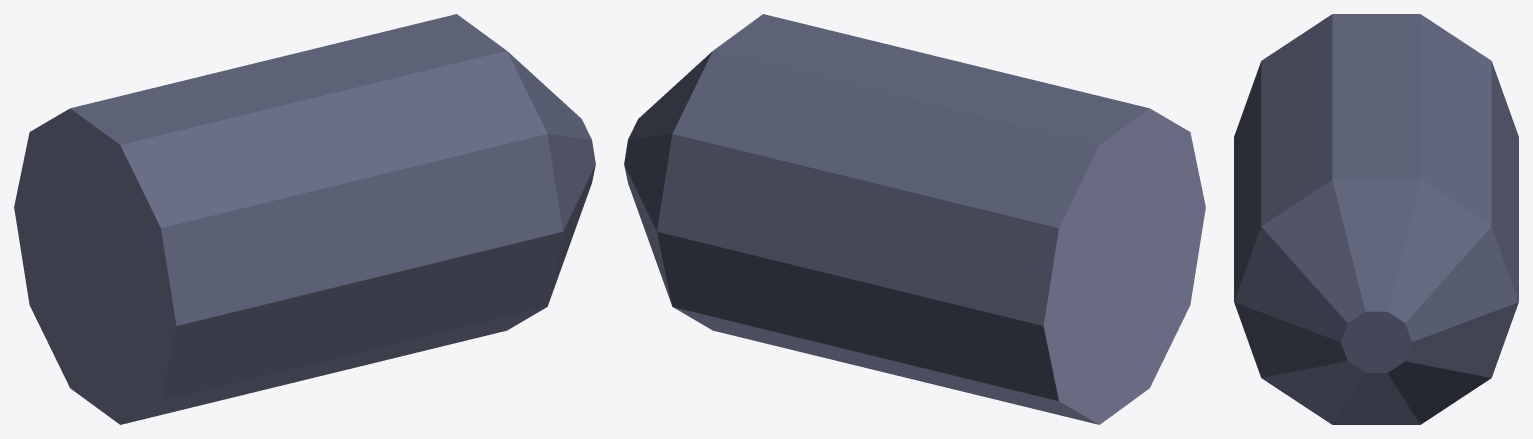
File: item_silicon.glb
The picture shows the model from 3 angles, left to right: view 1: azimuth 30°, elevation 25°; view 2: azimuth 150°, elevation 25°; view 3: azimuth 270°, elevation 25°; orthographic projection. The views are drawn at different scales.
Parts seen in each view (by area): view 1: item_silicon; view 2: item_silicon; view 3: item_silicon.
Boxes of the visible parts, x1,y1,x2,y2 form: item_silicon: (14,14,595,424); item_silicon: (624,14,1205,424); item_silicon: (1234,14,1518,424).
Size of the model in its own units: 0.82 by 0.4566 by 0.48.
